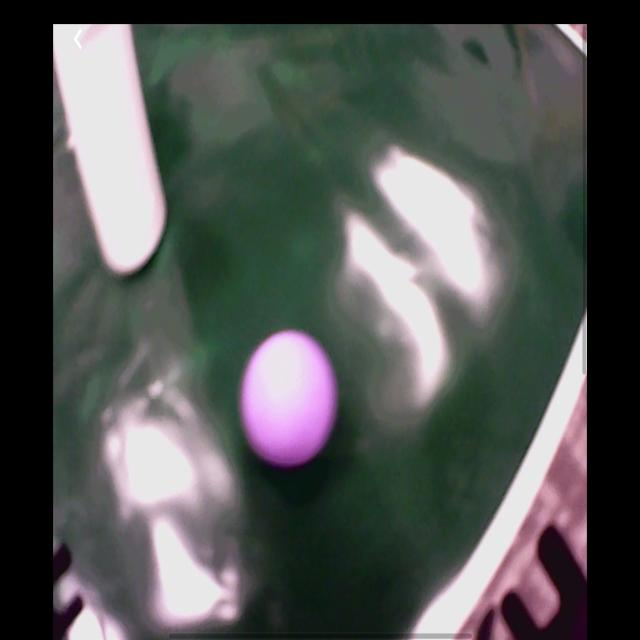ball: (243, 330, 339, 470)
